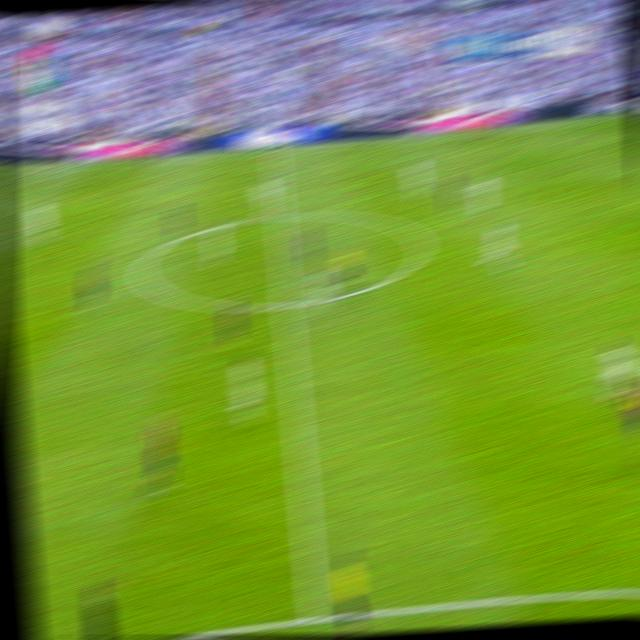halfcircle_bottom: (274, 288, 300, 321)
halfcircle_top: (268, 204, 290, 229)
midline_bottom_intersection: (299, 596, 329, 626)
midline_top_intersection: (265, 147, 283, 159)
